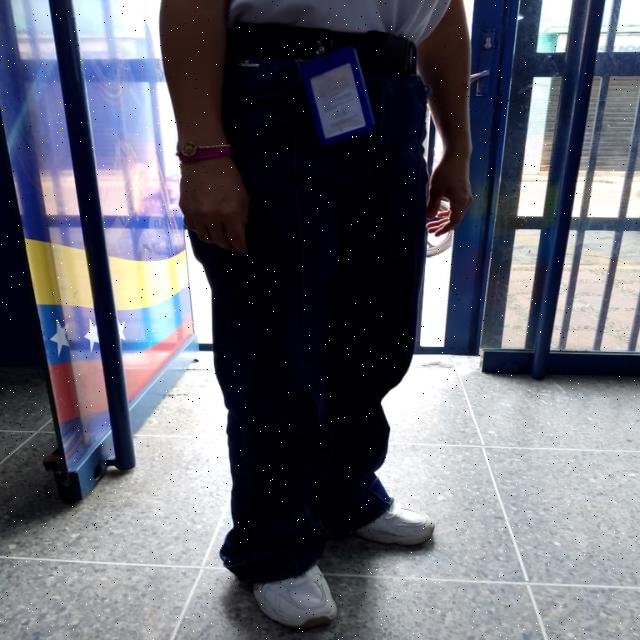carnet: (308, 61, 371, 140)
